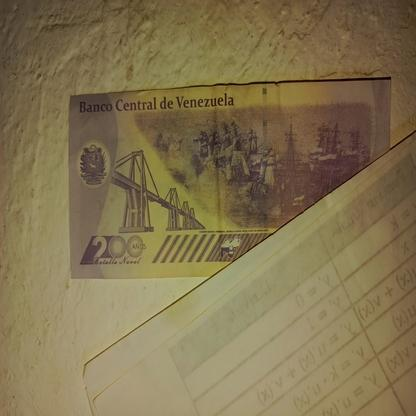two_hundred-back-vef: (67, 79, 391, 280)
